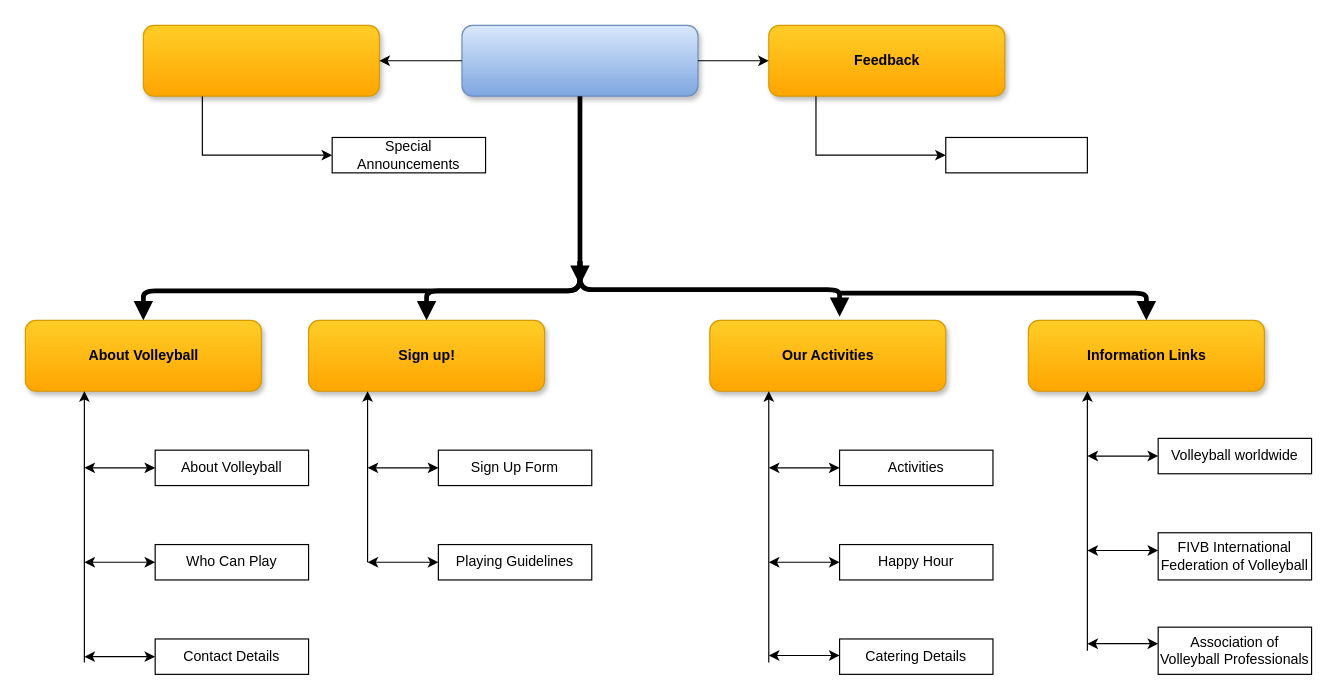
Image size: 1332x695. Some labels were removed from this diagram. The centre of each missing label's shape, as x and y in pixels:
"Announcments" belongs at pixel 261 61.
"Feedback Form" belongs at pixel 1016 154.
"Home" belongs at pixel 580 61.
